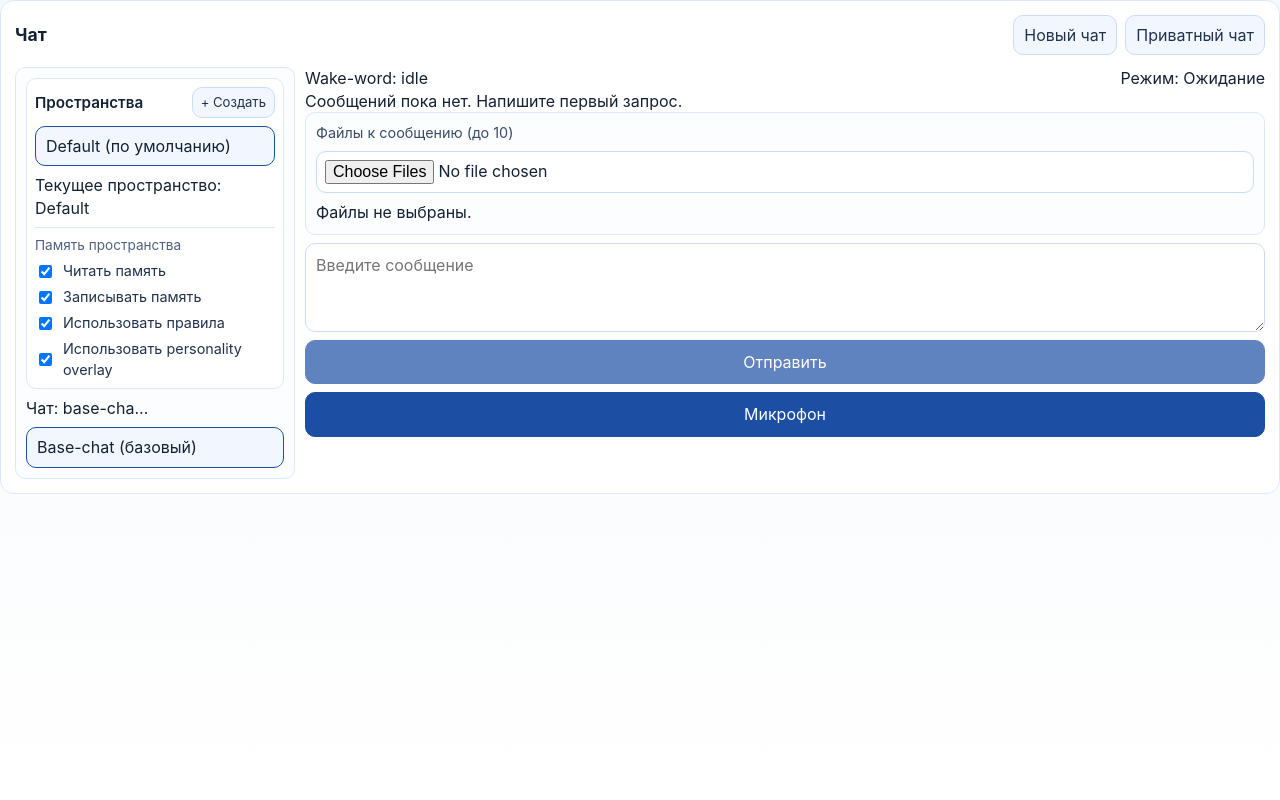
Test: ChatPage › отправляет сообщение и отображает ответ
Expected: the button "Base-chat (базовый)" is shown, [26, 427, 284, 468]
In the text box with placeholder "Введите сообщение": (785, 287) [305, 243, 1265, 332], type "Тестовый запрос"
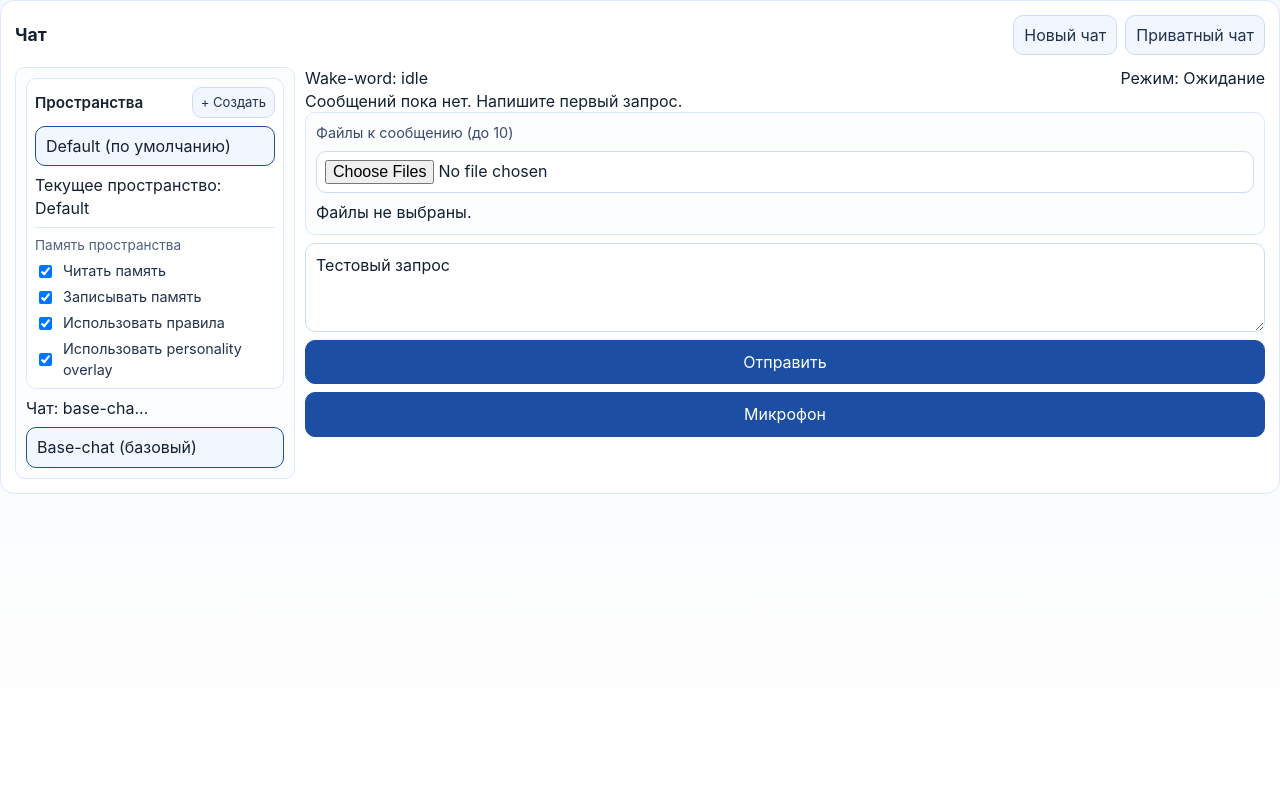
Click the button "Отправить": (785, 362) [305, 340, 1265, 384]
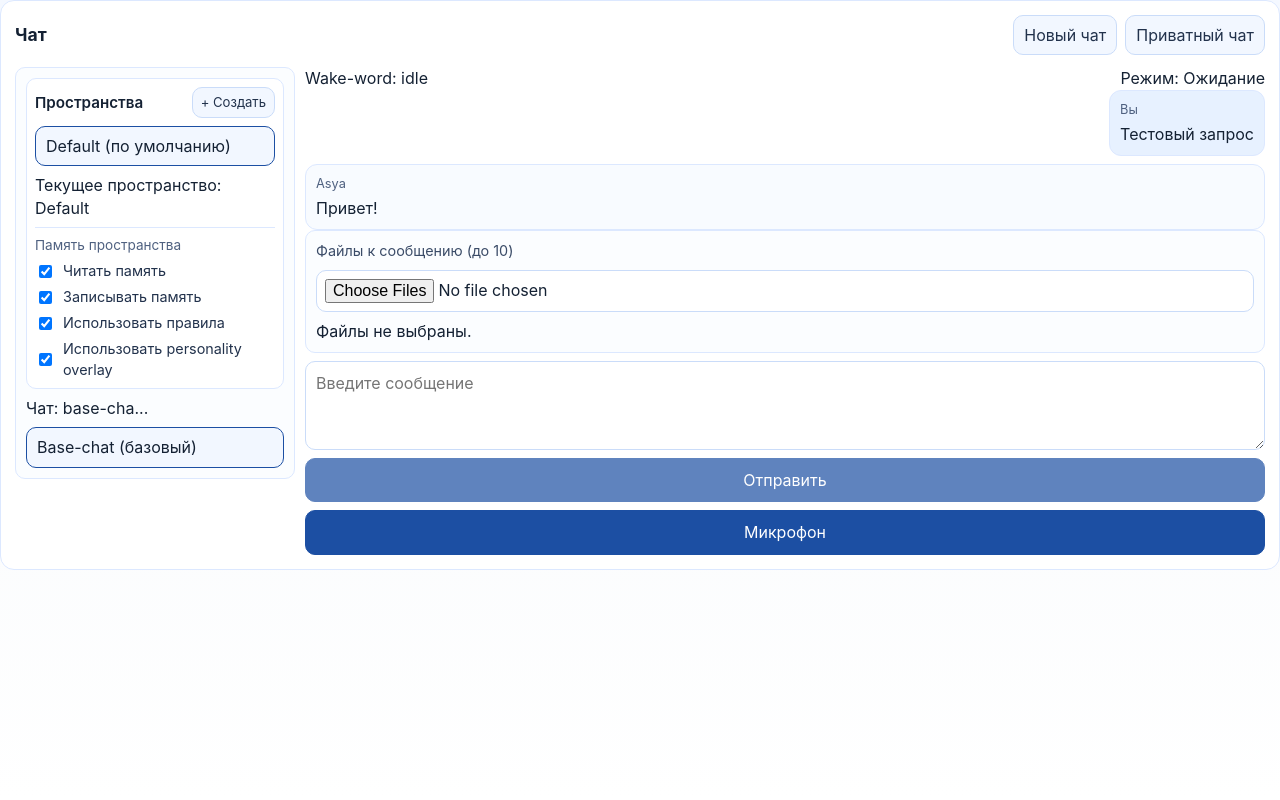
Now the text "Тестовый запрос" is shown, box [1120, 123, 1254, 145]
Now the text "Привет!" is shown, box [316, 198, 378, 218]
